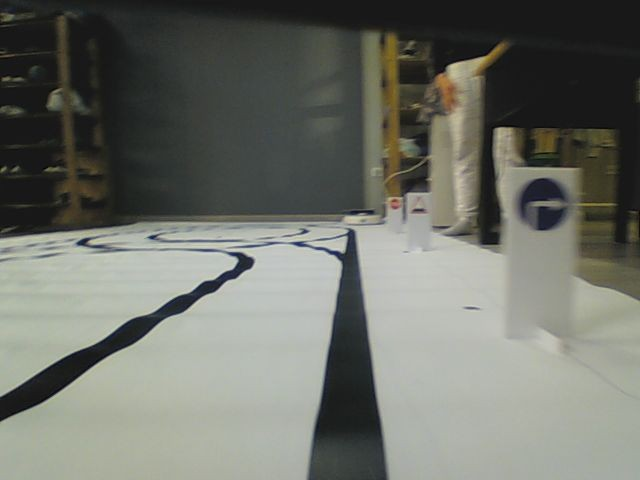Right: (517, 176, 569, 231)
